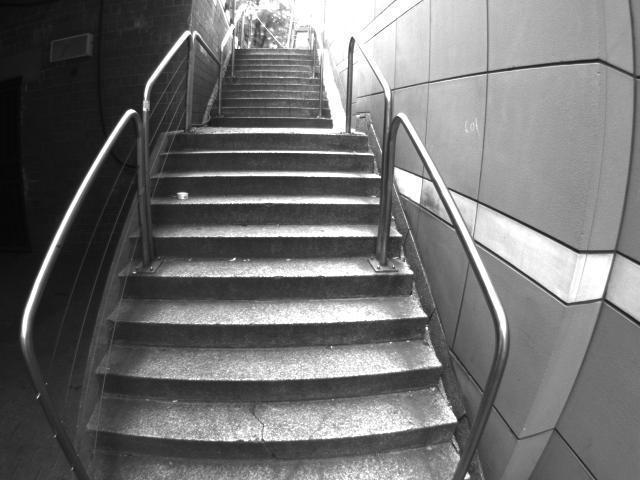Escaleras: (89, 104, 475, 479), (190, 28, 337, 123)
